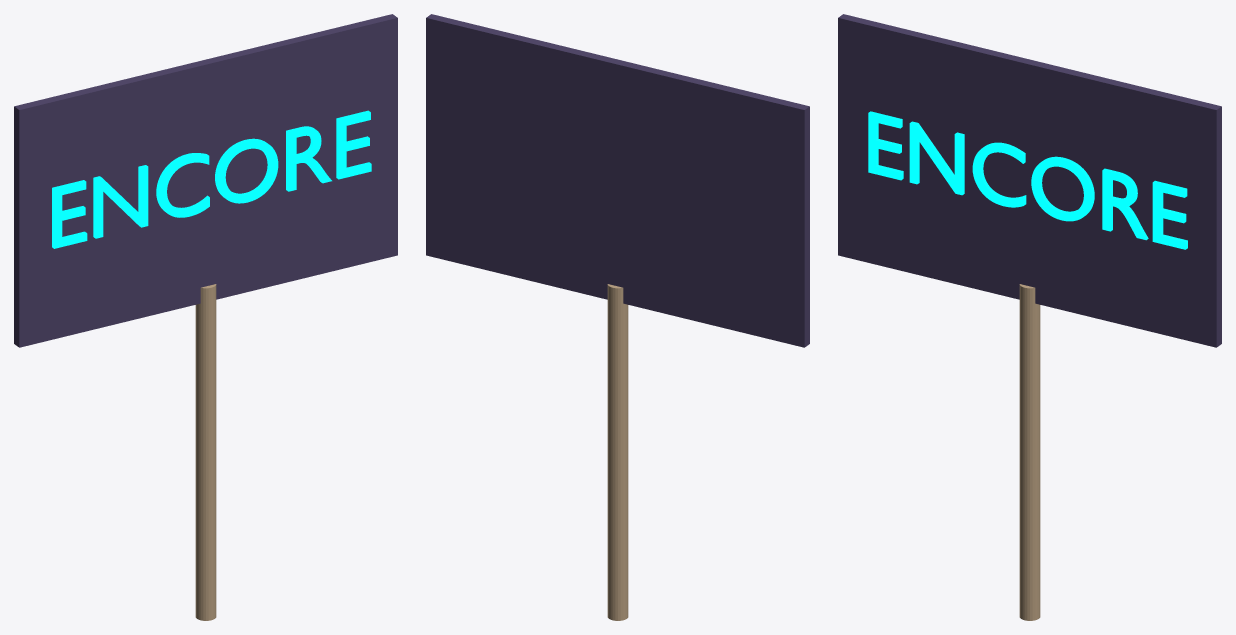
The model's file is prop_sign_encore_placeholder_v0.glb.
3 views of the same model, side by side, from view 1: azimuth 30°, elevation 25°; view 2: azimuth 150°, elevation 25°; view 3: azimuth 330°, elevation 25° (orthographic).
Parts seen in each view (by area): view 1: Sign_Board, Text_Surface, Sign_Stick; view 2: Sign_Board, Sign_Stick; view 3: Sign_Board, Text_Surface, Sign_Stick.
Part boxes in pixels (x1,y1,x2,y2): Sign_Board: (14, 14, 397, 347); Text_Surface: (52, 110, 371, 248); Sign_Stick: (195, 284, 216, 620); Sign_Board: (426, 14, 809, 347); Sign_Stick: (607, 284, 628, 620); Sign_Board: (838, 14, 1221, 347); Text_Surface: (868, 111, 1187, 249); Sign_Stick: (1019, 284, 1040, 620).
Bounding box in the file's own units: 0.5 × 0.7 × 0.024.
